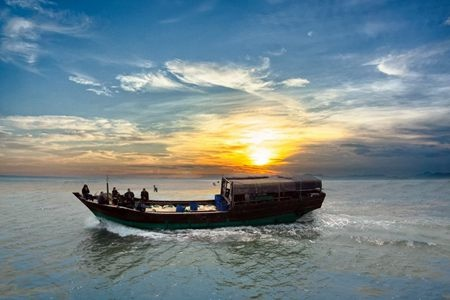otherboat: (69, 160, 328, 233)
